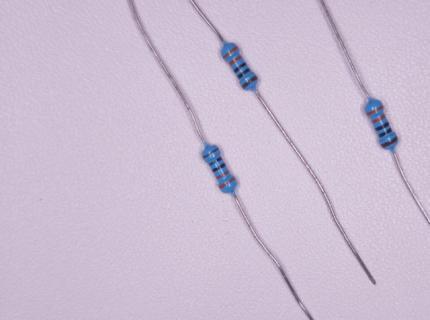Black band: (237, 67, 252, 80), (208, 156, 223, 167), (378, 128, 393, 139), (374, 122, 390, 132), (233, 62, 247, 73), (212, 163, 226, 173)
Brown band: (202, 147, 220, 160), (242, 75, 258, 89), (381, 136, 398, 149)
Orange band: (223, 46, 239, 59), (219, 177, 236, 189), (367, 105, 384, 116), (228, 55, 243, 66), (216, 170, 230, 180), (372, 114, 386, 124)
